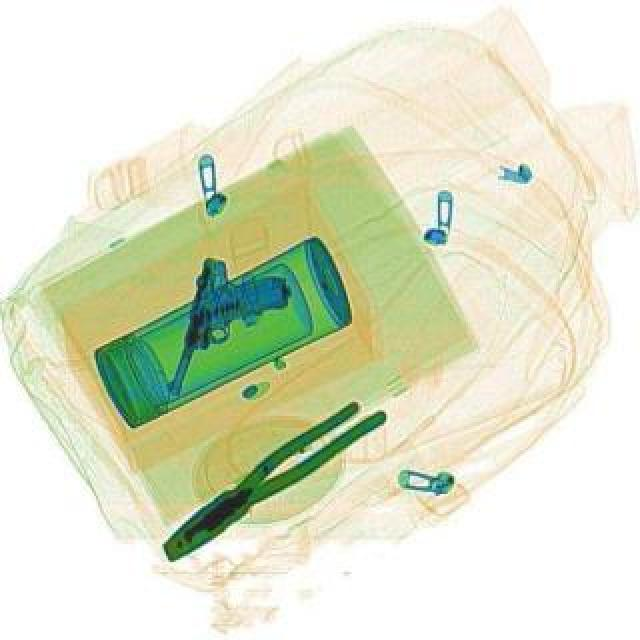gun: (162, 250, 296, 420)
wrench: (150, 384, 390, 570)
